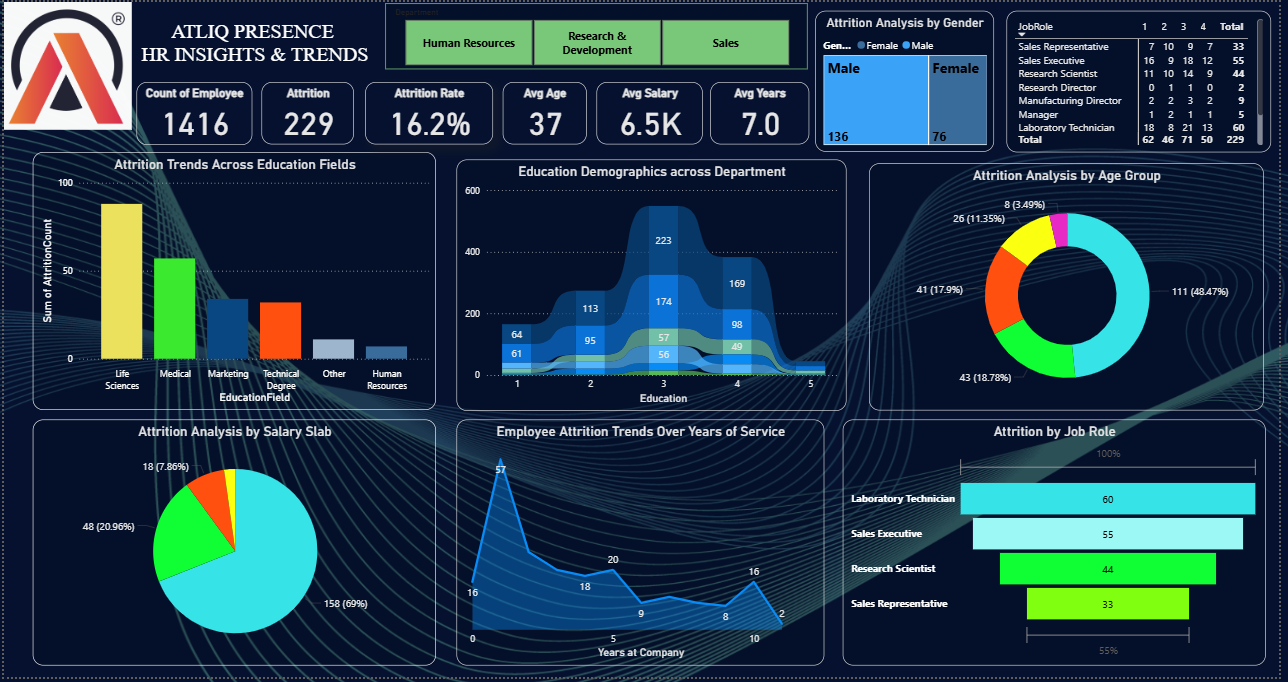

What the dashboard file says about the page in this screenshot:
{"tool":"powerbi","page":{"name":"Page 2","canvas":[1700,900],"ordinal":0},"visuals":[{"type":"clusteredColumnChart","title":"Attrition Trends Across Education Fields","fields":{"Category":["HR_Analytics.EducationField"],"Y":["Sum(HR_Analytics.AttritionCount)"]},"box":[37.7,200,537.7,344.3],"z":0},{"type":"card","title":"Count of Employee","fields":{"Values":["CountNonNull(HR_Analytics.EmpID)"]},"box":[177.1,107.1,154.1,83.6],"z":1000},{"type":"card","title":"Attrition","fields":{"Values":["Sum(HR_Analytics.AttritionCount)"]},"box":[344,107,123.3,83.3],"z":2000},{"type":"card","title":"Attrition Rate","fields":{"Values":["HR_Analytics.AttritionRate"]},"box":[482.3,107,170,83.3],"z":3000},{"type":"card","title":"Avg Age","fields":{"Values":["Avg(HR_Analytics.Age)"]},"box":[665.6,107,111.7,83.3],"z":4000},{"type":"card","title":"Avg Salary","fields":{"Values":["Avg(HR_Analytics.MonthlyIncome)"]},"box":[790.6,107,141.7,83.3],"z":5000},{"type":"card","title":"Avg Years","fields":{"Values":["Avg(HR_Analytics.YearsAtCompany)"]},"box":[942.3,107,131.7,83.3],"z":6000},{"type":"pivotTable","fields":{"Rows":["HR_Analytics.JobRole"],"Columns":["HR_Analytics.JobSatisfaction"],"Values":["Sum(HR_Analytics.AttritionCount)"]},"box":[1336.1,11.5,352.5,188.5],"z":7000},{"type":"treemap","title":"Attrition Analysis by Gender","fields":{"Values":["Sum(HR_Analytics.AttritionCount)"],"Details":["HR_Analytics.Gender"]},"box":[1081.8,11.8,238.2,188.2],"z":8000},{"type":"slicer","fields":{"Values":["HR_Analytics.Department"]},"box":[508.3,1.7,563.3,88.3],"z":9000},{"type":"textbox","box":[168.2,1.9,332.8,103.3],"z":10000},{"type":"donutChart","title":"Attrition Analysis by Age Group","fields":{"Category":["HR_Analytics.AgeGroup"],"Y":["Sum(HR_Analytics.AttritionCount)"]},"box":[1154.1,214.8,526.2,329.5],"z":11000},{"type":"ribbonChart","title":"Education Demographics across Department ","fields":{"Y":["CountNonNull(HR_Analytics.Department)"],"Category":["HR_Analytics.Education"],"Series":["HR_Analytics.EducationField"]},"box":[602.9,209.3,520,335],"z":12000},{"type":"pieChart","title":"Attrition Analysis by Salary Slab","fields":{"Category":["HR_Analytics.SalarySlab"],"Y":["Sum(HR_Analytics.AttritionCount)"]},"box":[37.7,557.4,537.7,327.9],"z":13000},{"type":"areaChart","title":"Employee Attrition Trends Over Years of Service","fields":{"Category":["HR_Analytics.YearsAtCompany"],"Y":["Sum(HR_Analytics.AttritionCount)"]},"box":[603.3,557.4,490.2,327.9],"z":14000},{"type":"funnel","title":"Attrition by Job Role","fields":{"Category":["HR_Analytics.JobRole"],"Y":["Sum(HR_Analytics.AttritionCount)"]},"box":[1118,557.4,563.9,327.9],"z":15000},{"type":"image","box":[0,0,170.5,170.5],"z":16000}]}

Visuals, with their boxes in screenshot pixels (x1, y1, x2, y2), scaled from the page's 1700x900 canvas onto the 1288x682 screenshot:
"Attrition Trends Across Education Fields" clusteredColumnChart: (left=29, top=152, right=436, bottom=412)
"Count of Employee" card: (left=134, top=81, right=251, bottom=145)
"Attrition" card: (left=261, top=81, right=354, bottom=144)
"Attrition Rate" card: (left=365, top=81, right=494, bottom=144)
"Avg Age" card: (left=504, top=81, right=589, bottom=144)
"Avg Salary" card: (left=599, top=81, right=706, bottom=144)
"Avg Years" card: (left=714, top=81, right=814, bottom=144)
pivotTable - HR_Analytics.JobRole x HR_Analytics.JobSatisfaction: (left=1012, top=9, right=1279, bottom=152)
"Attrition Analysis by Gender" treemap: (left=820, top=9, right=1000, bottom=152)
slicer - HR_Analytics.Department: (left=385, top=1, right=812, bottom=68)
textbox: (left=127, top=1, right=380, bottom=80)
"Attrition Analysis by Age Group" donutChart: (left=874, top=163, right=1273, bottom=412)
"Education Demographics across Department " ribbonChart: (left=457, top=159, right=851, bottom=412)
"Attrition Analysis by Salary Slab" pieChart: (left=29, top=422, right=436, bottom=671)
"Employee Attrition Trends Over Years of Service" areaChart: (left=457, top=422, right=828, bottom=671)
"Attrition by Job Role" funnel: (left=847, top=422, right=1274, bottom=671)
image: (left=0, top=0, right=129, bottom=129)
